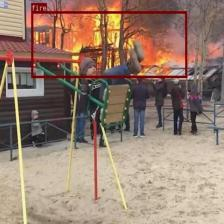fire: (31, 11, 187, 77)
